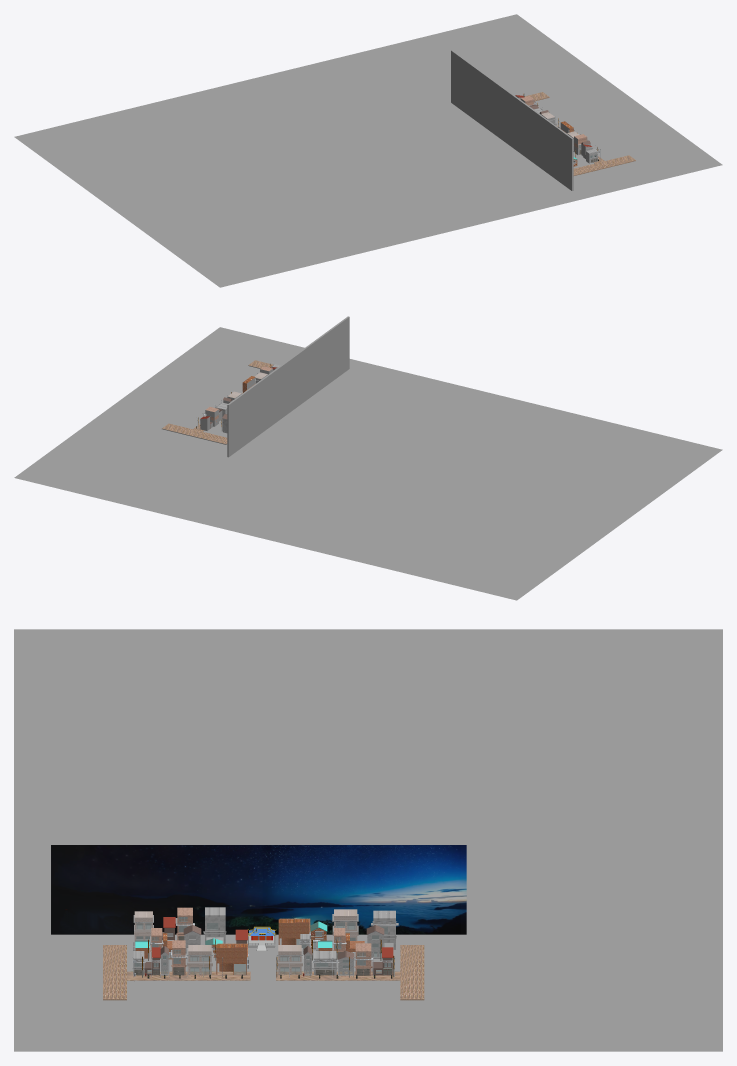
3 views of the same model, one above another, from view 1: azimuth 30°, elevation 25°; view 2: azimuth 150°, elevation 25°; view 3: azimuth 270°, elevation 25° (orthographic). The views are drawn at different scales.
Visible parts, largest first — view 1: pPlane1, pCube94, pCube93; view 2: pPlane1, pCube94, pasted__pCube93; view 3: pPlane1, pCube94, pasted__pasted__pCube93 (×2), pasted__pCube93, pCube93, group49_pasted__group17_pasted__pasted__polySurface1664, hause3, pasted__hause3, pasted__hause2, hause2, pasted__polySurface1558.
Boxes of the visible parts, x1,y1,x2,y2 form: pPlane1: (14,14,722,287); pCube94: (451,50,573,190); pCube93: (573,155,635,175); pPlane1: (14,327,722,600); pCube94: (227,316,349,457); pasted__pCube93: (162,423,227,444); pPlane1: (14,629,722,1051); pCube94: (51,843,466,934); pasted__pasted__pCube93 (×2): (127,971,400,980); pasted__pCube93: (400,945,424,1000); pCube93: (103,945,126,1000); group49_pasted__group17_pasted__pasted__polySurface1664: (316,925,384,958); hause3: (216,943,248,974); pasted__hause3: (278,918,310,944); pasted__hause2: (276,945,302,974); hause2: (186,945,212,974); pasted__polySurface1558: (203,907,226,944).
Bounding box in the file's own units: 1407 × 141 × 998.
